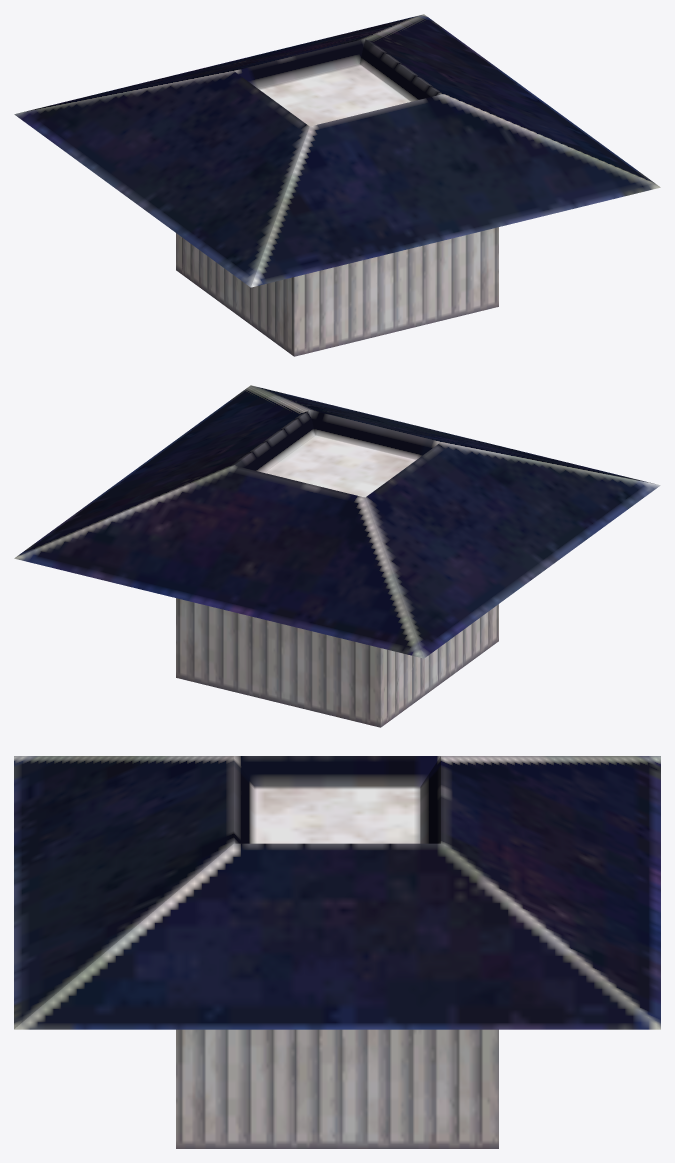
The model's file is mun_all_imprv_streetlamp_sm_s01_l0.fbx.
3 renders of one model, top to bottom at view 1: azimuth 30°, elevation 25°; view 2: azimuth 150°, elevation 25°; view 3: azimuth 270°, elevation 25°, orthographic. The views are drawn at different scales.
Visible parts, largest first — view 1: mesh_node; view 2: mesh_node; view 3: mesh_node.
Boxes of the visible parts, x1,y1,x2,y2 form: mesh_node: [14, 14, 660, 356]; mesh_node: [14, 385, 660, 727]; mesh_node: [14, 756, 660, 1148].
Size of the model in its own units: 0.4006 by 0.192 by 0.4006.
Materials: 1 (1 with a texture image).
